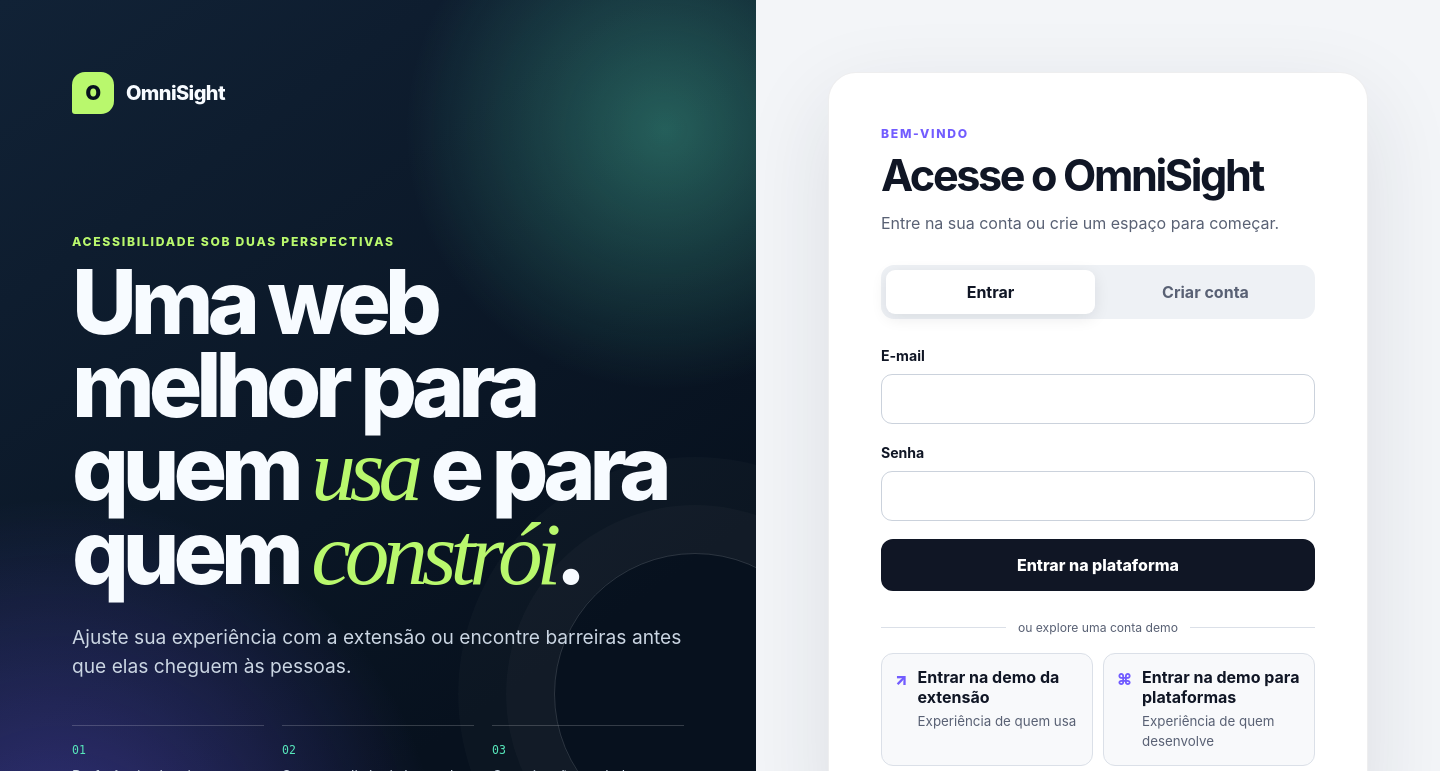
AuthExperience › opens the extension workspace for the extension demo account
The width and height of the screenshot is (1440, 771).
Click the button "↗ Entrar na demo da extensão Experiência de quem usa". click: {"x": 987, "y": 710}
box: [881,653,1093,766]
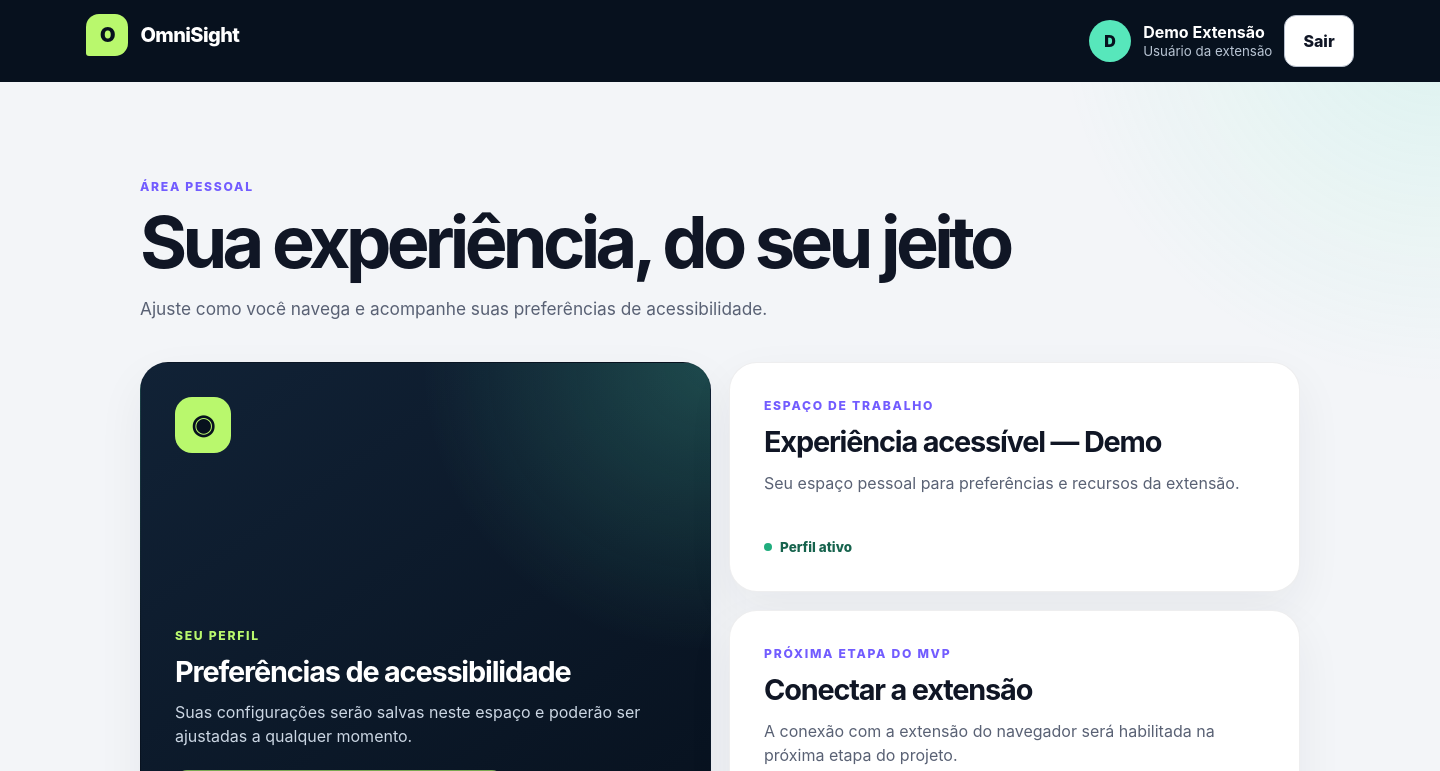
Check: the heading "Sua experiência, do seu jeito" is shown, box [140,206,1014,278]
Check: the heading "Experiência acessível — Demo" is shown, box [764,425,1161,458]
